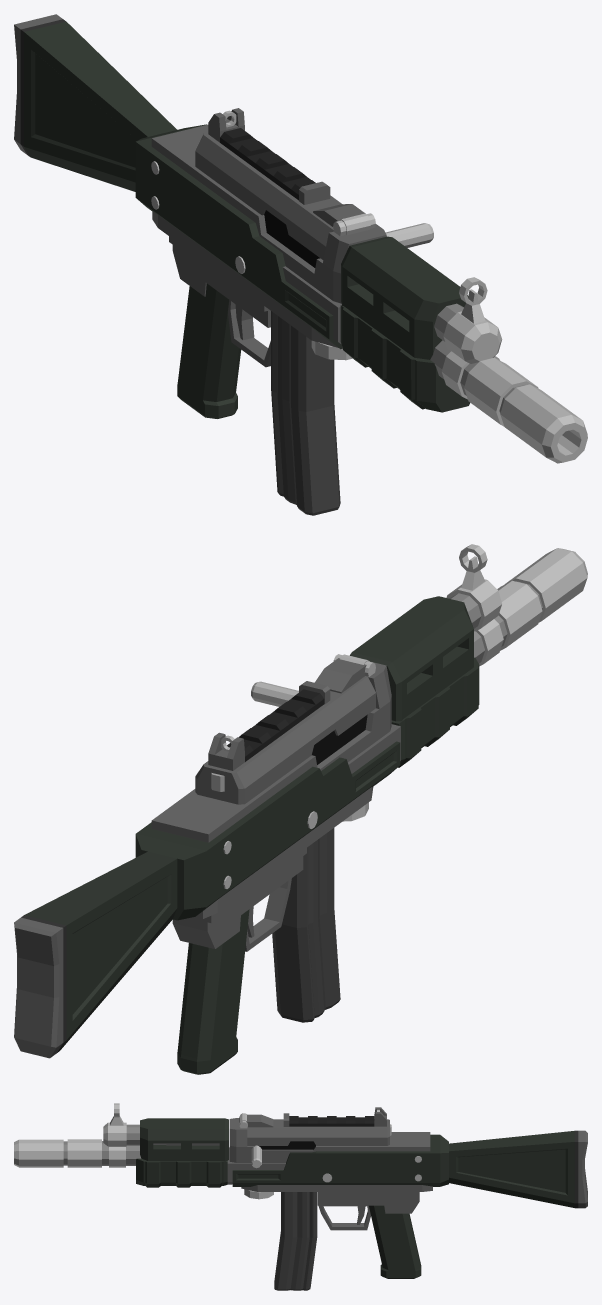
File: AsimovSMG.fbx
The picture shows the model from 3 angles, top to bottom: view 1: azimuth 30°, elevation 25°; view 2: azimuth 150°, elevation 25°; view 3: azimuth 270°, elevation 25°; orthographic projection. The views are drawn at different scales.
Parts seen in each view (by area): view 1: AsimovSMG; view 2: AsimovSMG; view 3: AsimovSMG.
Boxes of the visible parts, x1,y1,x2,y2 form: AsimovSMG: (14,14,587,515); AsimovSMG: (14,544,587,1074); AsimovSMG: (14,1103,587,1290).
Bounding box in the file's own units: 33.88 × 88.85 × 253.
